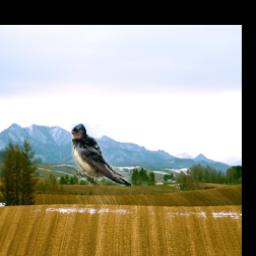Swallow: (70, 125, 146, 187)
